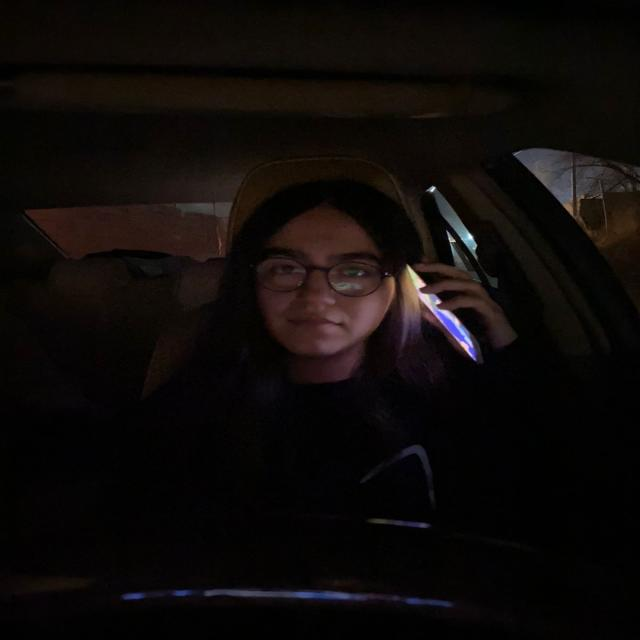mobile: (404, 261, 486, 380)
person: (222, 183, 400, 367)
